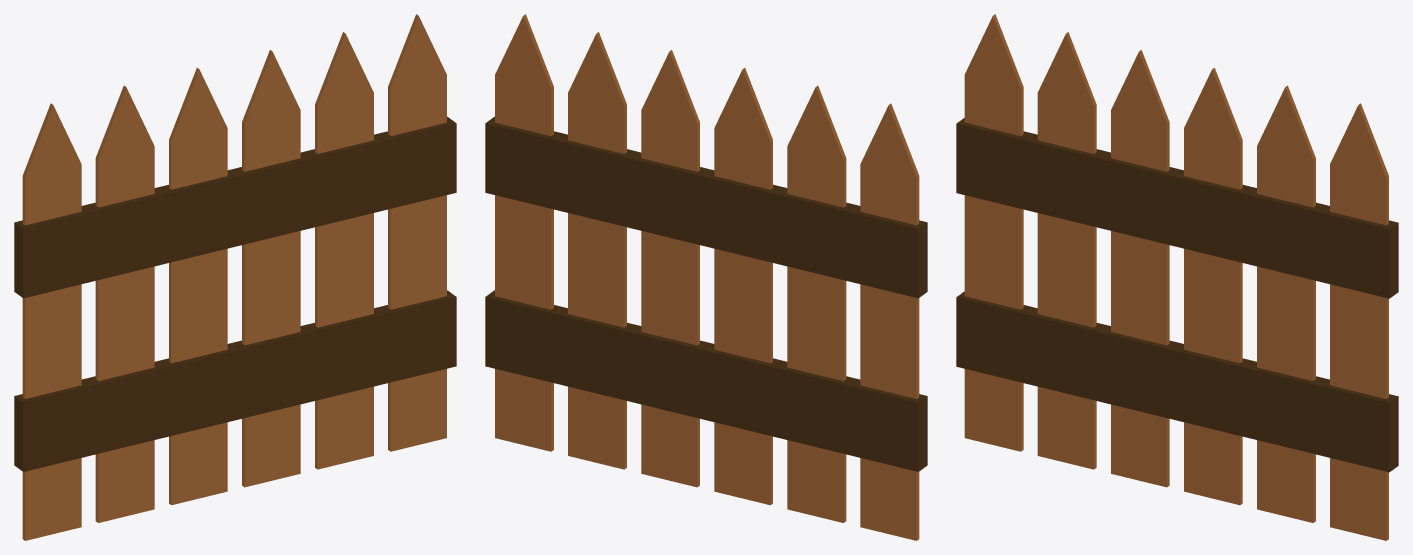
File: wooden fences.glb
3 views of the same model, side by side, from view 1: azimuth 30°, elevation 25°; view 2: azimuth 150°, elevation 25°; view 3: azimuth 330°, elevation 25° (orthographic).
Parts seen in each view (by area): view 1: Cube; view 2: Cube; view 3: Cube.
Boxes of the visible parts, x1,y1,x2,y2 form: Cube: (14,14,456,540); Cube: (485,14,927,540); Cube: (956,14,1398,540).
Size of the model in its own units: 6.59 by 6.23 by 0.2386.
2 materials, 2 textured.
